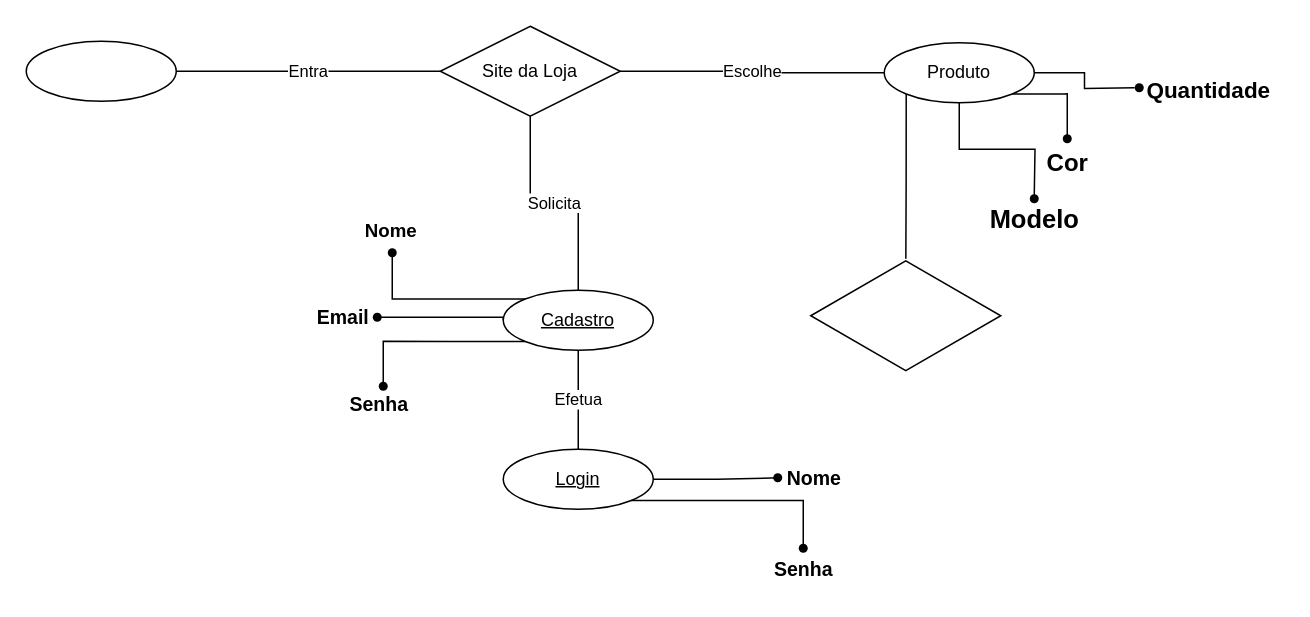
Image size: 1310x617. Some labels were removed from this diagram. The shapes that lost their labels are listed below. From the top down, each one's box as (x1, y1, x2, y2) in pixels, then its label:
(25, 40, 176, 101): Cliente
(809, 257, 1001, 373): Efetua Compra
